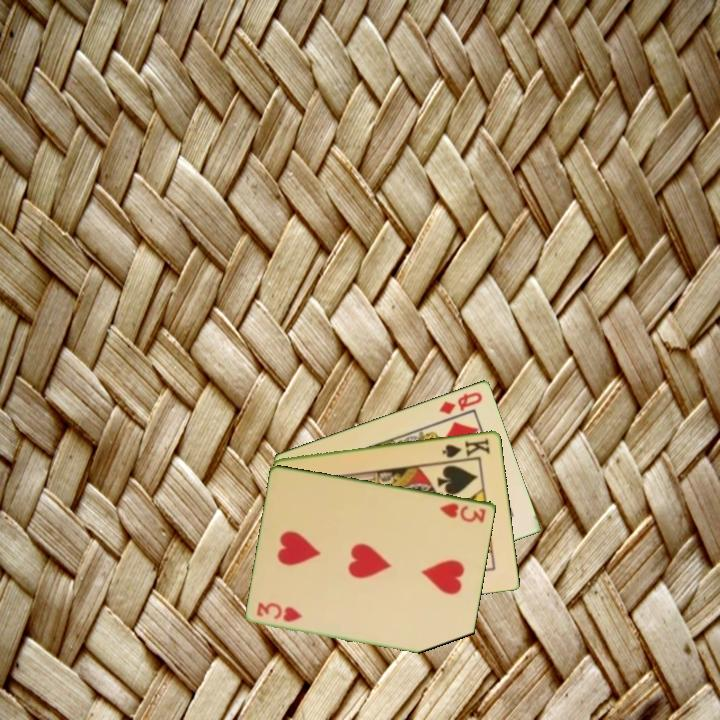3h: (436, 499, 489, 525), (253, 599, 306, 625)
Ks: (439, 434, 493, 460)
Qd: (436, 388, 486, 417)
